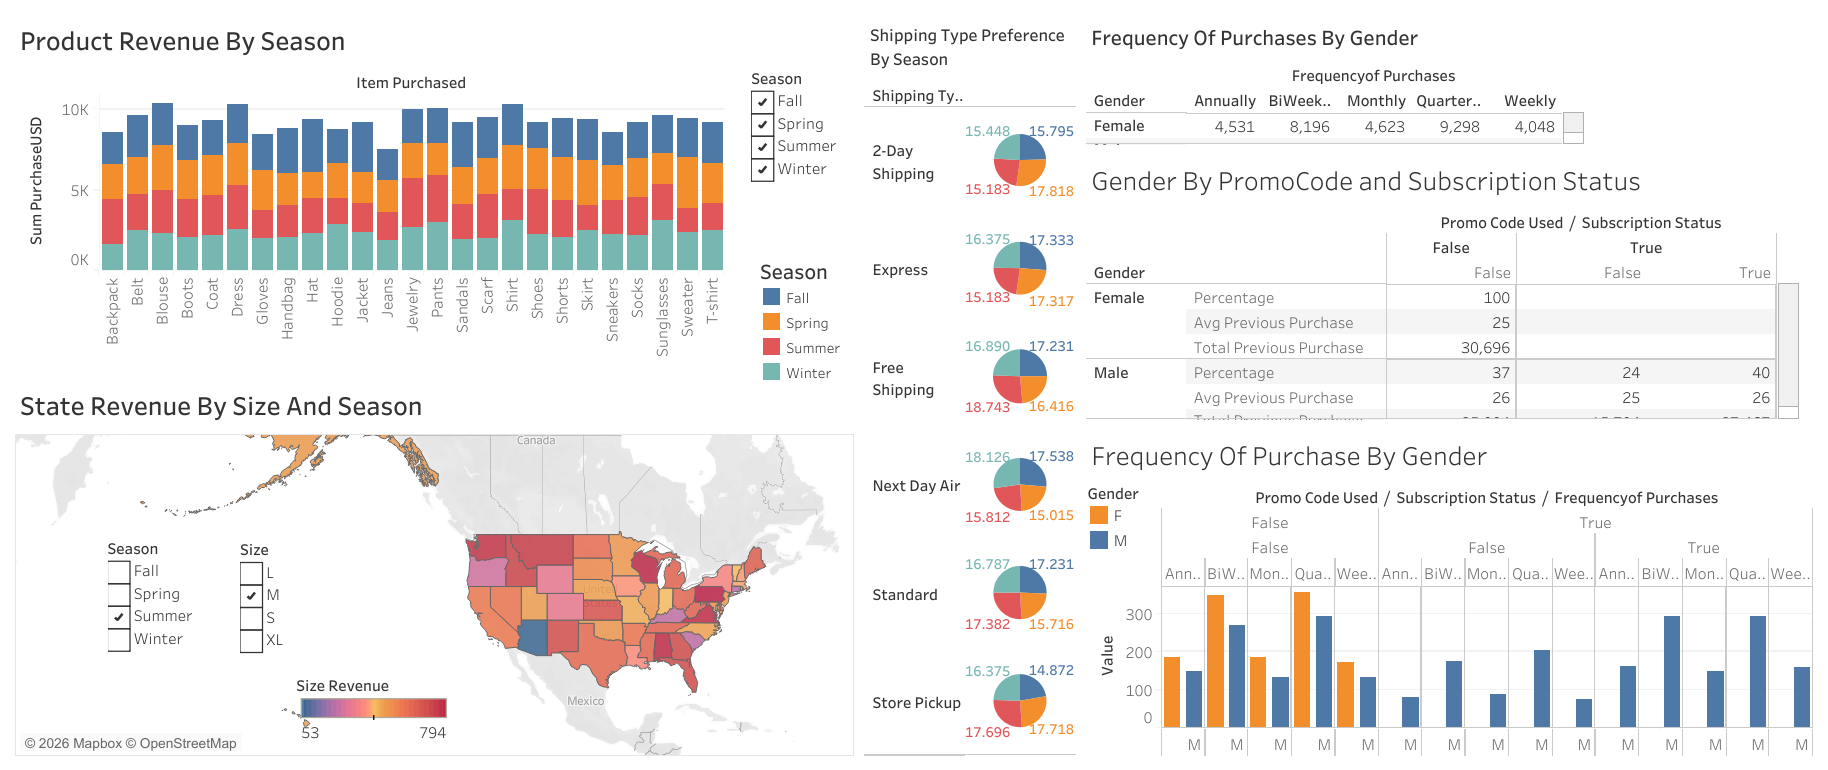

The page's visual inventory and layout, read from the dashboard file:
{"tool":"tableau","page":{"name":"Dashboard 1","canvas":[1000,1000],"units":"permille","ordinal":0},"visuals":[{"type":"filter","title":"ProductRevenueBySeason","param":"[federated.1vhzd3b104yo0z14twvdg1fsvm85].[none:Season:nk]","box":[362.9,7.5,62.3,181]},{"type":"worksheet","title":"ProductRevenueBySeason","mark":"Automatic","rows":["Sum_PurchaseUSD"],"cols":["ItemPurchased"],"box":[4.9,10,442.3,489.8]},{"type":"worksheet","title":"ShipTypePercSeason","mark":"Pie","rows":["ShippingType"],"box":[447.2,10,158.8,980]},{"type":"worksheet","title":"GenderSUMofFP","mark":"Automatic","rows":["Gender"],"cols":["FrequencyofPurchases"],"box":[606,10,389.1,182.1]},{"type":"filter","title":"ProductRevenueBySeason","param":"[federated.1vhzd3b104yo0z14twvdg1fsvm85].[none:ItemPurchased:nk]","box":[361,184.8,72.7,232.2]},{"type":"worksheet","title":"GenderPercent_PPSS","mark":"Automatic","rows":["Gender"],"cols":["PromoCodeUsed","SubscriptionStatus"],"box":[606,192.1,389.1,359.8]},{"type":"legend","title":"ProductRevenueBySeason","param":"[federated.1vhzd3b104yo0z14twvdg1fsvm85].[none:Season:nk]","box":[362.2,422,79.4,151.1]},{"type":"worksheet","title":"StateSeasonSizeRevenue","mark":"Automatic","box":[4.9,499.8,442.3,490.2]},{"type":"worksheet","title":"GenderFPPCSS","mark":"Automatic","cols":["PromoCodeUsed","SubscriptionStatus","FrequencyofPurchases"],"box":[606,551.8,389.1,438.2]},{"type":"legend","title":"GenderFPPCSS","param":"[federated.1jvoeqs0jn0vh917rulfi1xcywls].[:Measure Names]","box":[654.2,619.2,92.9,106.1]},{"type":"filter","title":"StateSeasonSizeRevenue","param":"[federated.0egujx00g7vsj217q7mvd1w4k4wj].[none:Season:nk]","box":[95.3,690.4,61.1,188.5]},{"type":"filter","title":"StateSeasonSizeRevenue","param":"[federated.0egujx00g7vsj217q7mvd1w4k4wj].[none:Size (Location_Size_Season_Revenu","box":[172.3,691.6,56.2,182.3]},{"type":"legend","title":"StateSeasonSizeRevenue","param":"[federated.0egujx00g7vsj217q7mvd1w4k4wj].[sum:Revenue_USD (Location_Size_Season_","box":[162.5,872.7,85.5,109.9]}]}

Visuals, with their boxes on the dashboard's canvas, which has no fixed pixel size, in thousandths of its width and height (x1, y1, x2, y2). These are canvas units, not pixel positions in the 1828x770 screenshot, which may show the page scaled, cropped or inside an application window:
"ProductRevenueBySeason" filter: 363,8,425,188
"ProductRevenueBySeason" worksheet: 5,10,447,500
"ShipTypePercSeason" worksheet (Pie marks): 447,10,606,990
"GenderSUMofFP" worksheet: 606,10,995,192
"ProductRevenueBySeason" filter: 361,185,434,417
"GenderPercent_PPSS" worksheet: 606,192,995,552
"ProductRevenueBySeason" legend: 362,422,442,573
"StateSeasonSizeRevenue" worksheet: 5,500,447,990
"GenderFPPCSS" worksheet: 606,552,995,990
"GenderFPPCSS" legend: 654,619,747,725
"StateSeasonSizeRevenue" filter: 95,690,156,879
"StateSeasonSizeRevenue" filter: 172,692,228,874
"StateSeasonSizeRevenue" legend: 162,873,248,983
